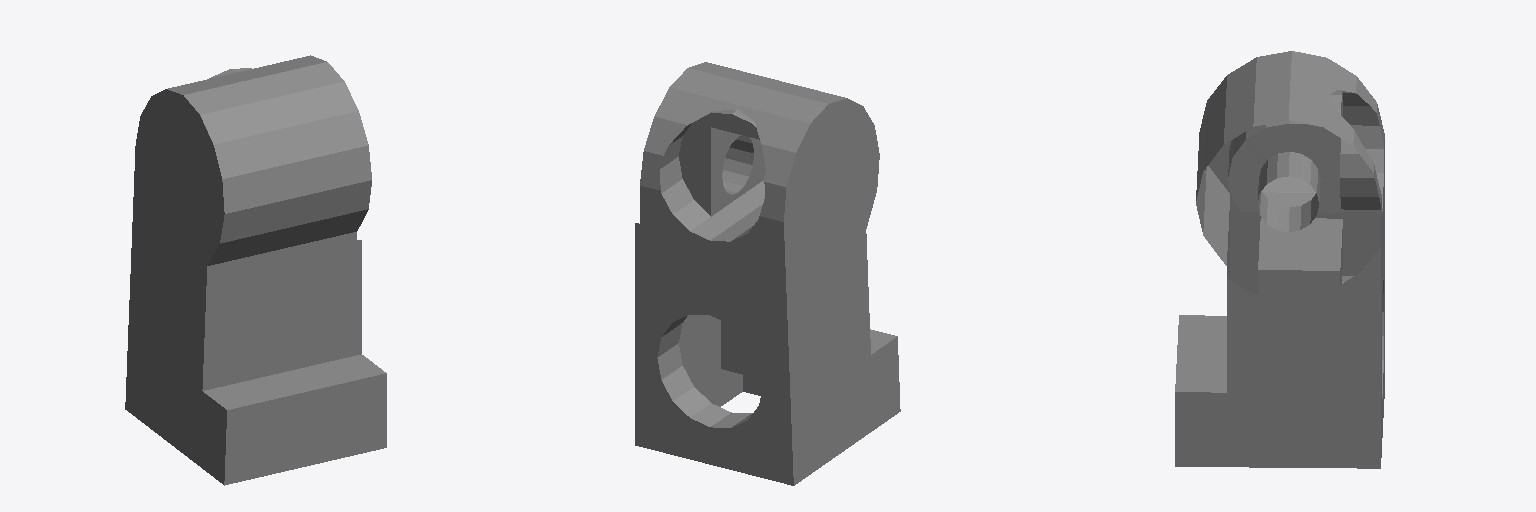
Rendered from piernaDer.obj.
The picture shows the model from 3 angles: view 1: azimuth 30°, elevation 25°; view 2: azimuth 150°, elevation 25°; view 3: azimuth 270°, elevation 25°; orthographic projection.
Visible parts, largest first — view 1: piernaDerHomero; view 2: piernaDerHomero; view 3: piernaDerHomero.
Boxes of the visible parts, x1=… form: piernaDerHomero: x1=125, y1=55, x2=386, y2=485; piernaDerHomero: x1=635, y1=62, x2=900, y2=485; piernaDerHomero: x1=1175, y1=51, x2=1384, y2=468.
Bounding box in the file's own units: 1.19 × 2.39 × 1.32.